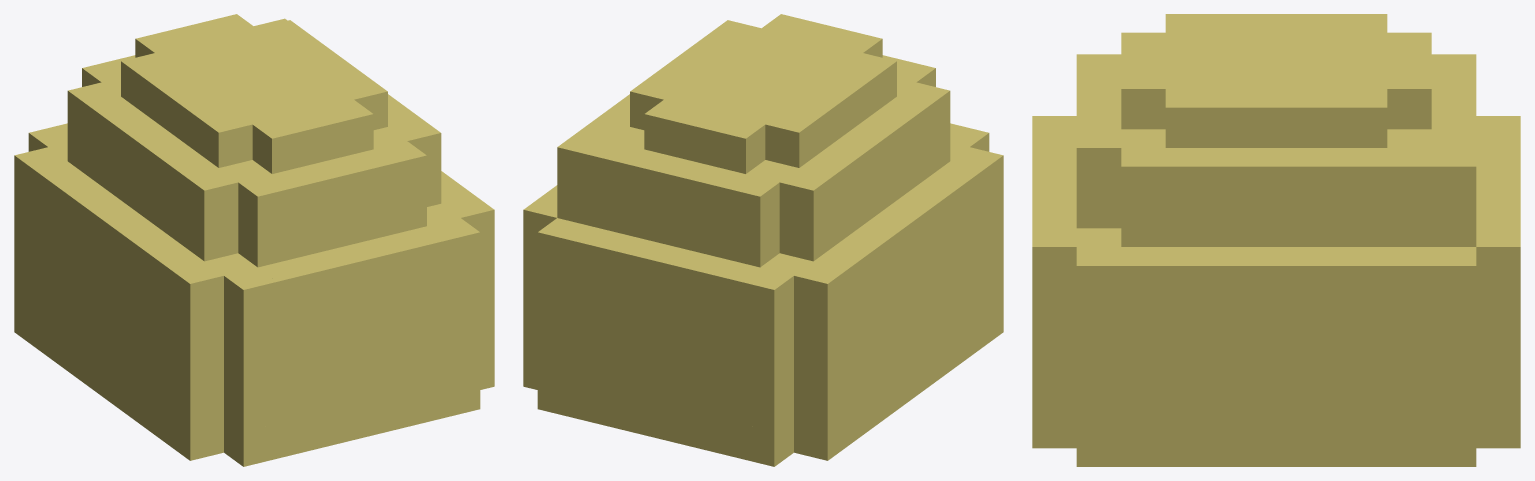
The model's file is Matojo_3.fbx.
3 views of the same model, side by side, from view 1: azimuth 30°, elevation 25°; view 2: azimuth 150°, elevation 25°; view 3: azimuth 270°, elevation 25° (orthographic). The views are drawn at different scales.
Parts seen in each view (by area): view 1: matojo_3_9x8x11; view 2: matojo_3_9x8x11; view 3: matojo_3_9x8x11.
Boxes of the visible parts, box(x1,y1,x2,y2) form: matojo_3_9x8x11: box(14, 14, 494, 466); matojo_3_9x8x11: box(523, 14, 1003, 466); matojo_3_9x8x11: box(1032, 14, 1520, 466).
Bounding box in the file's own units: 900 × 800 × 1100.
